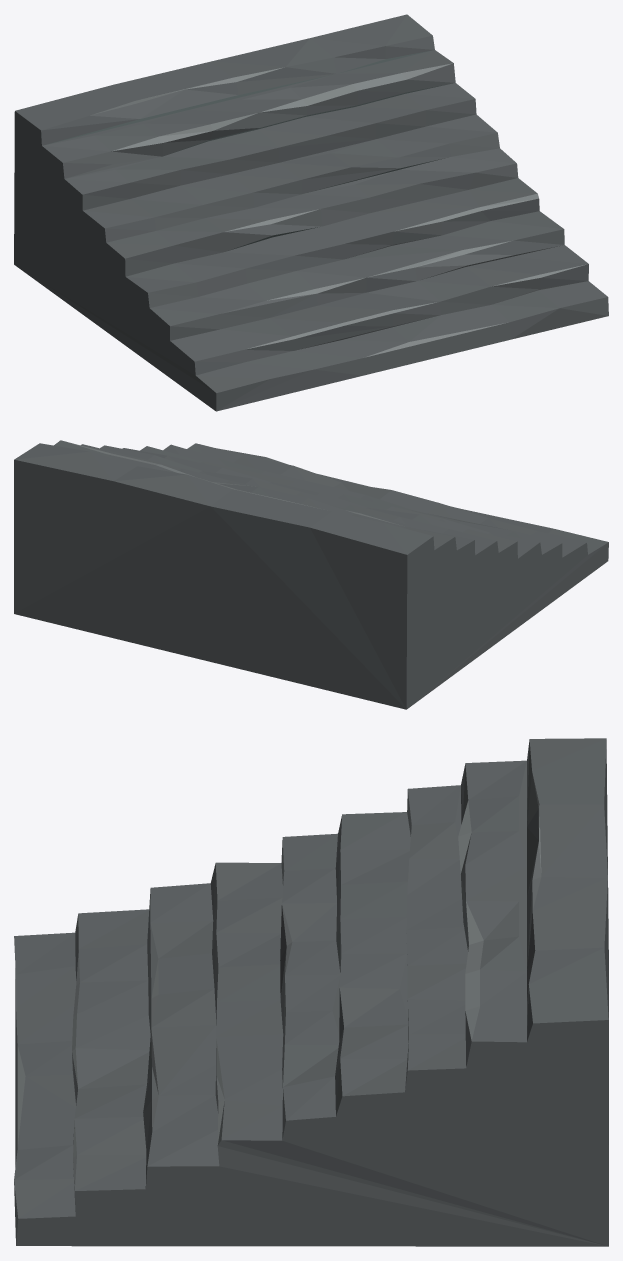
File: MCastle_Steps_03.FBX
3 views of the same model, one above another, from view 1: azimuth 30°, elevation 25°; view 2: azimuth 150°, elevation 25°; view 3: azimuth 270°, elevation 25° (orthographic). The views are drawn at different scales.
Parts seen in each view (by area): view 1: MCastle_Steps_03_LOD0; view 2: MCastle_Steps_03_LOD0; view 3: MCastle_Steps_03_LOD0.
Part boxes in pixels (bbox=[...]): MCastle_Steps_03_LOD0: bbox=[14, 14, 608, 411]; MCastle_Steps_03_LOD0: bbox=[14, 440, 608, 709]; MCastle_Steps_03_LOD0: bbox=[14, 738, 608, 1246].
Size of what is drawn, in the model's own units: 4.01 by 1.53 by 3.58.
